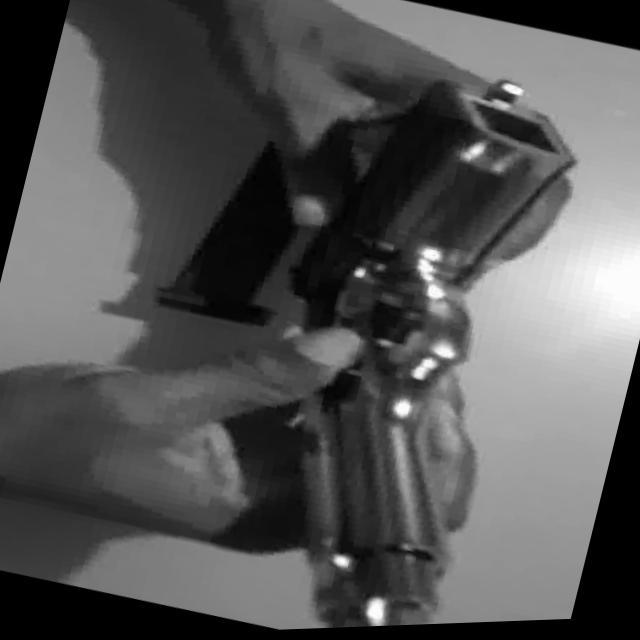weapon: (204, 39, 597, 634)
